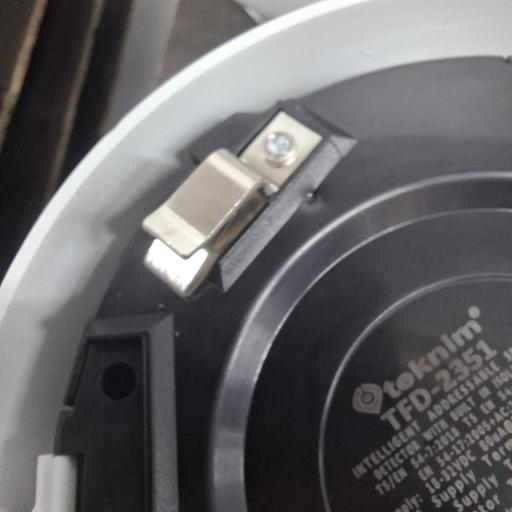yayli: (138, 106, 332, 301)
